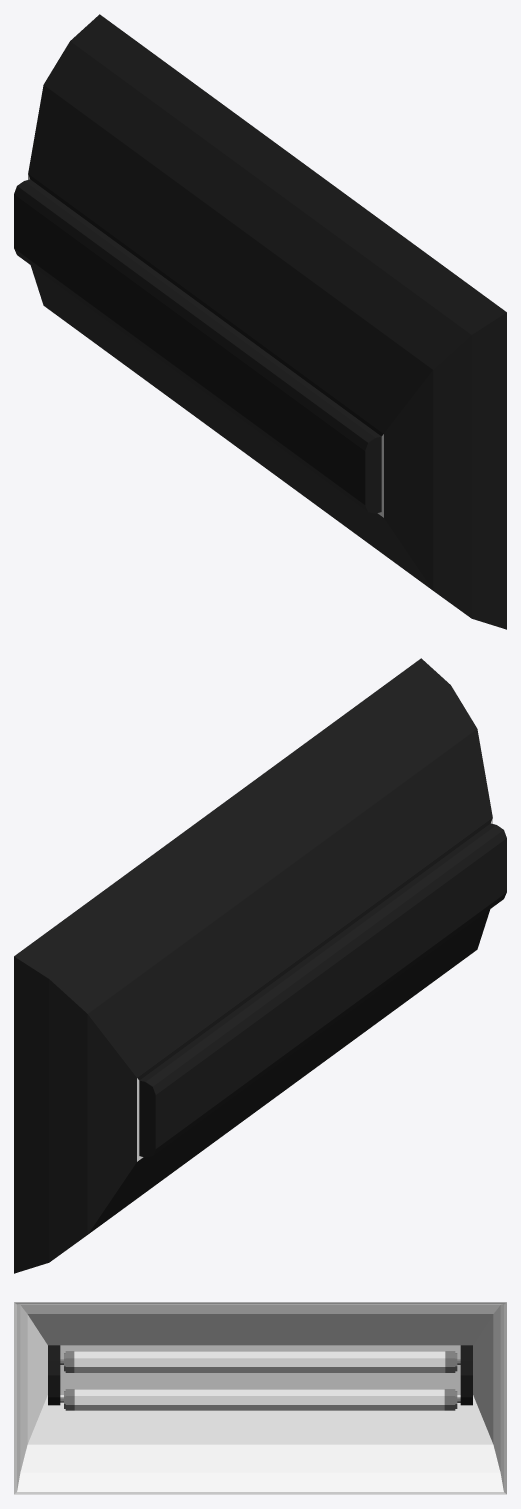
File: Industrial_Lamp.fbx
The picture shows the model from 3 angles, top to bottom: view 1: azimuth 30°, elevation 25°; view 2: azimuth 150°, elevation 25°; view 3: azimuth 270°, elevation 25°; orthographic projection. The views are drawn at different scales.
Parts seen in each view (by area): view 1: Industrial_Lamp; view 2: Industrial_Lamp; view 3: Industrial_Lamp.
Part boxes in pixels (x1=…): Industrial_Lamp: x1=14, y1=14, x2=506, y2=629; Industrial_Lamp: x1=14, y1=658, x2=506, y2=1273; Industrial_Lamp: x1=14, y1=1302, x2=506, y2=1494.
Size of the model in its own units: 14.01 by 37.34 by 86.85.
3 materials, 2 textured.
